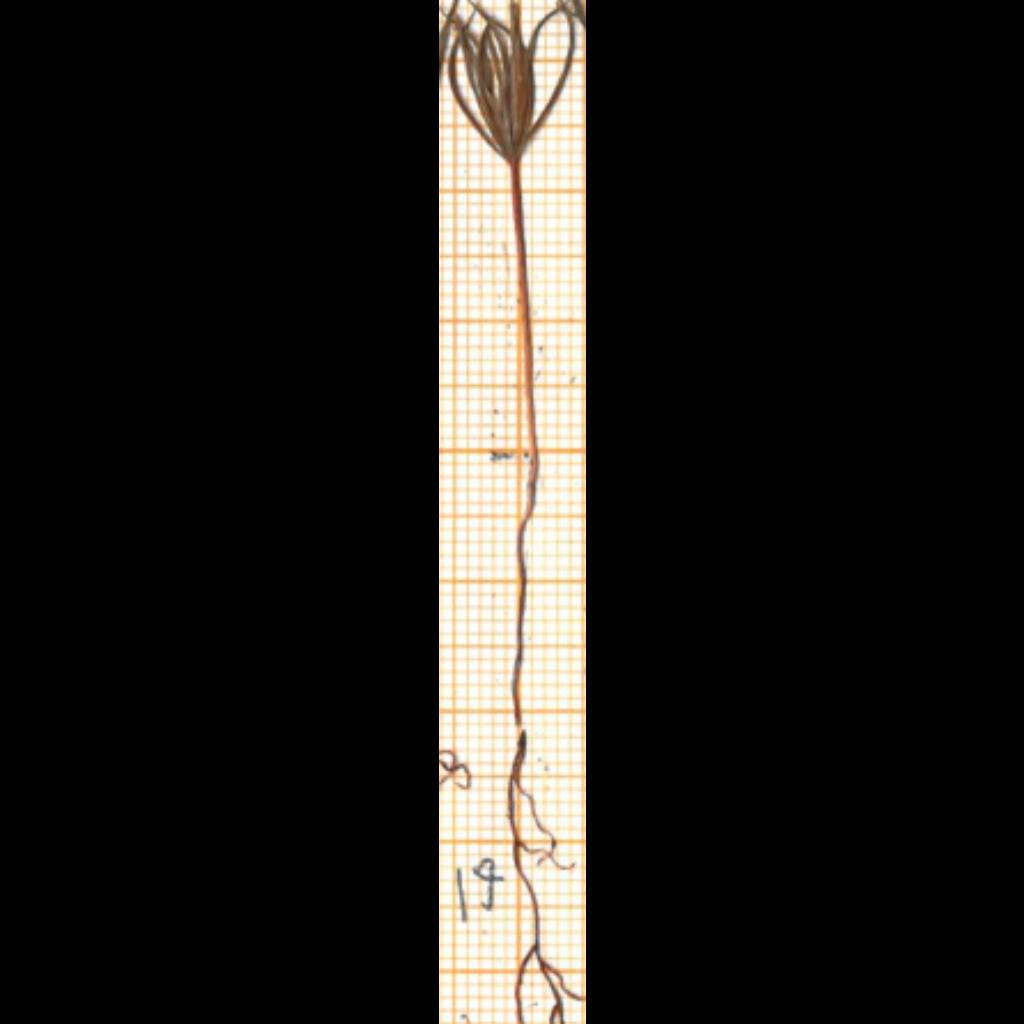flowerPinus: (449, 0, 574, 163)
rootPinus: (508, 456, 583, 1023)
stemPinus: (511, 162, 537, 460)
